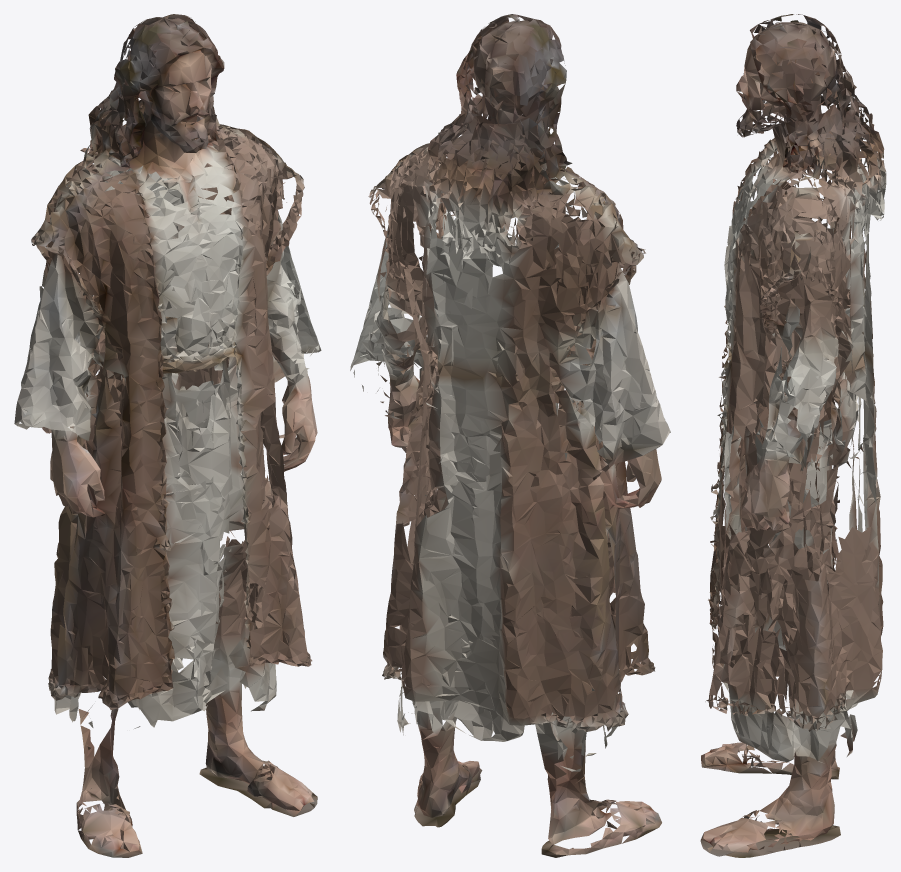
The model's file is jesus.glb.
3 renders of one model, left to right at view 1: azimuth 30°, elevation 25°; view 2: azimuth 150°, elevation 25°; view 3: azimuth 270°, elevation 25°, orthographic. The views are drawn at different scales.
Size of the model in its own units: 0.6928 by 1.7 by 0.366.
